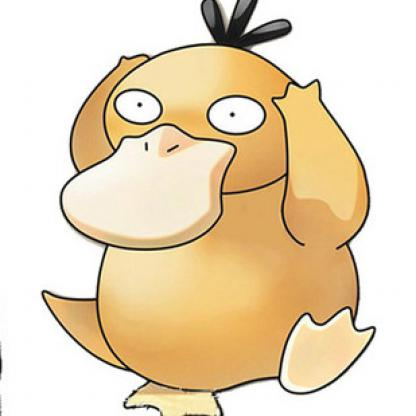Psyduck: (30, 1, 392, 416)
